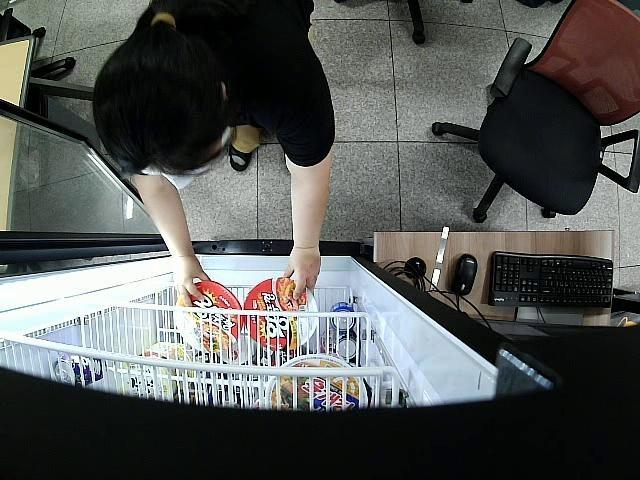10_wangTtukkeong: (245, 277, 318, 349), (174, 280, 243, 351)
